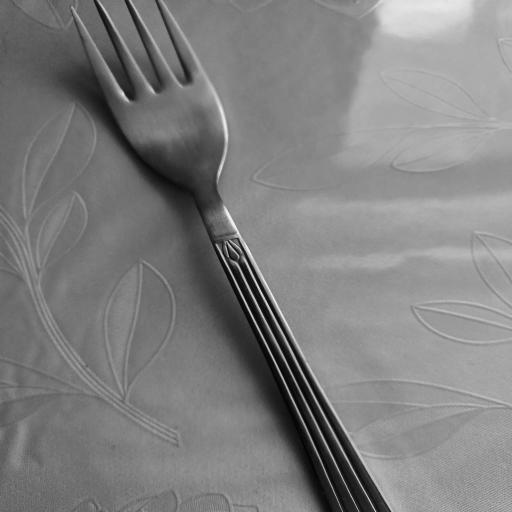fork: (60, 0, 396, 512)
